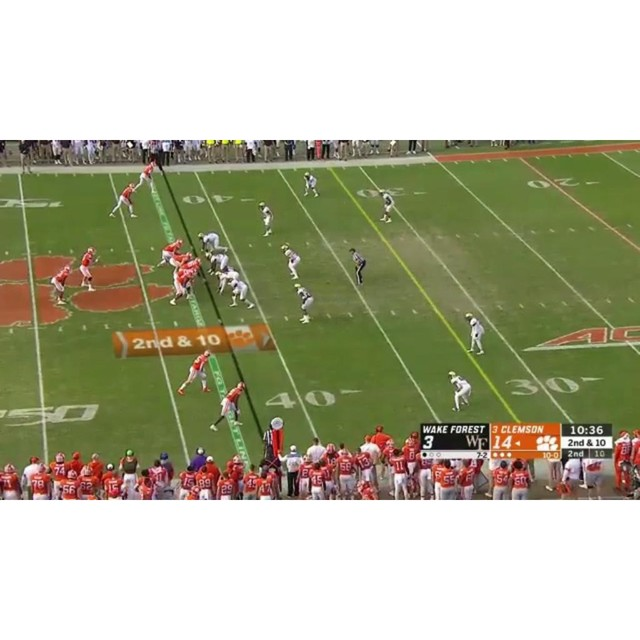american-football-player: (209, 380, 248, 431), (176, 350, 212, 395), (108, 182, 138, 219), (448, 370, 472, 412), (170, 268, 196, 306), (228, 274, 254, 309), (465, 312, 486, 355), (50, 264, 72, 305), (78, 246, 97, 291), (157, 237, 183, 268), (281, 243, 302, 280), (294, 284, 313, 324), (136, 160, 158, 192), (205, 250, 230, 276), (198, 232, 225, 255), (258, 201, 274, 237), (303, 171, 320, 198), (380, 190, 394, 222)
referee: (349, 248, 366, 286)
